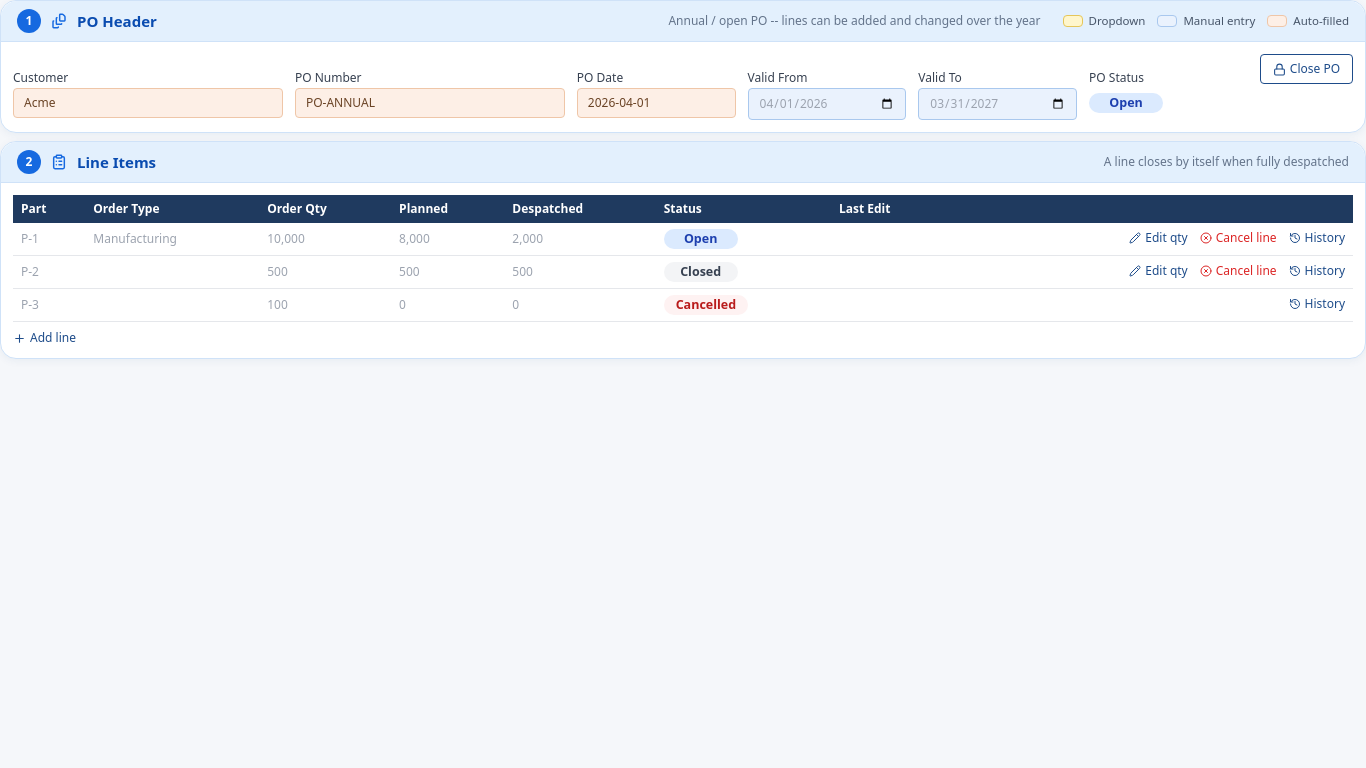
PO view › cancel line: reason required, then refused while PRDs are unstarted
Click the button "Cancel line" in the row of "P-1" at [1238, 238], box [1200, 230, 1277, 246]
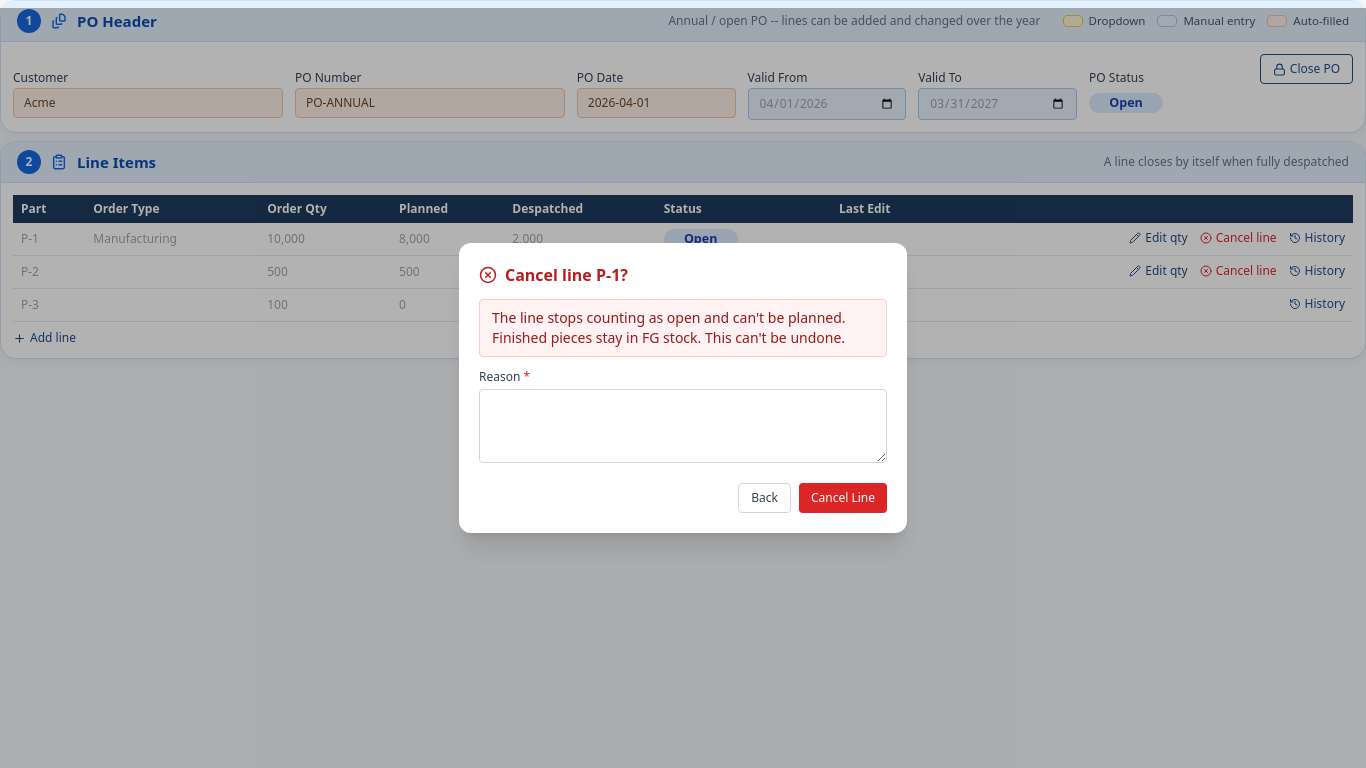
Click the button "Cancel Line" at [843, 498], box [799, 483, 887, 513]
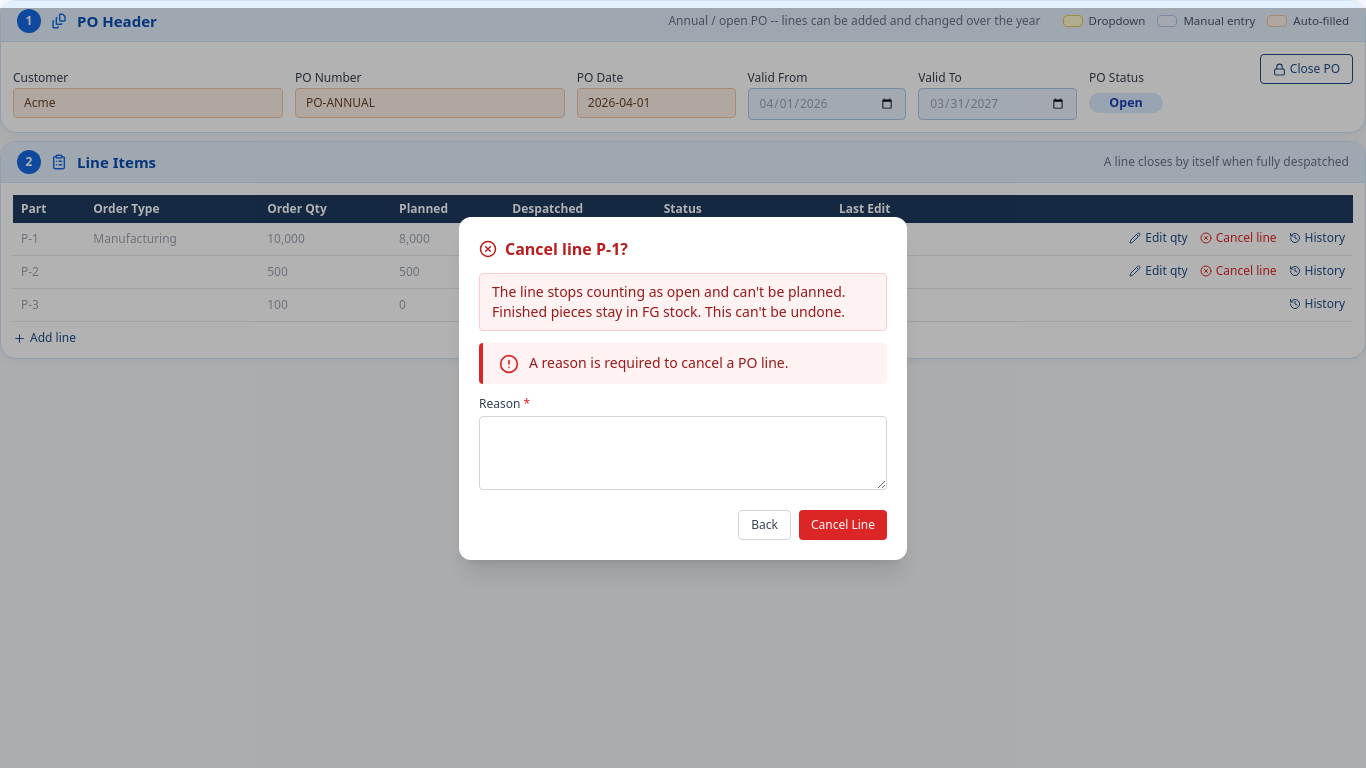
Check: the text "A reason is required to cancel a PO line." is shown, box [529, 352, 788, 372]
Type "Customer dropped it" into the text box at [683, 452], box [479, 416, 887, 490]
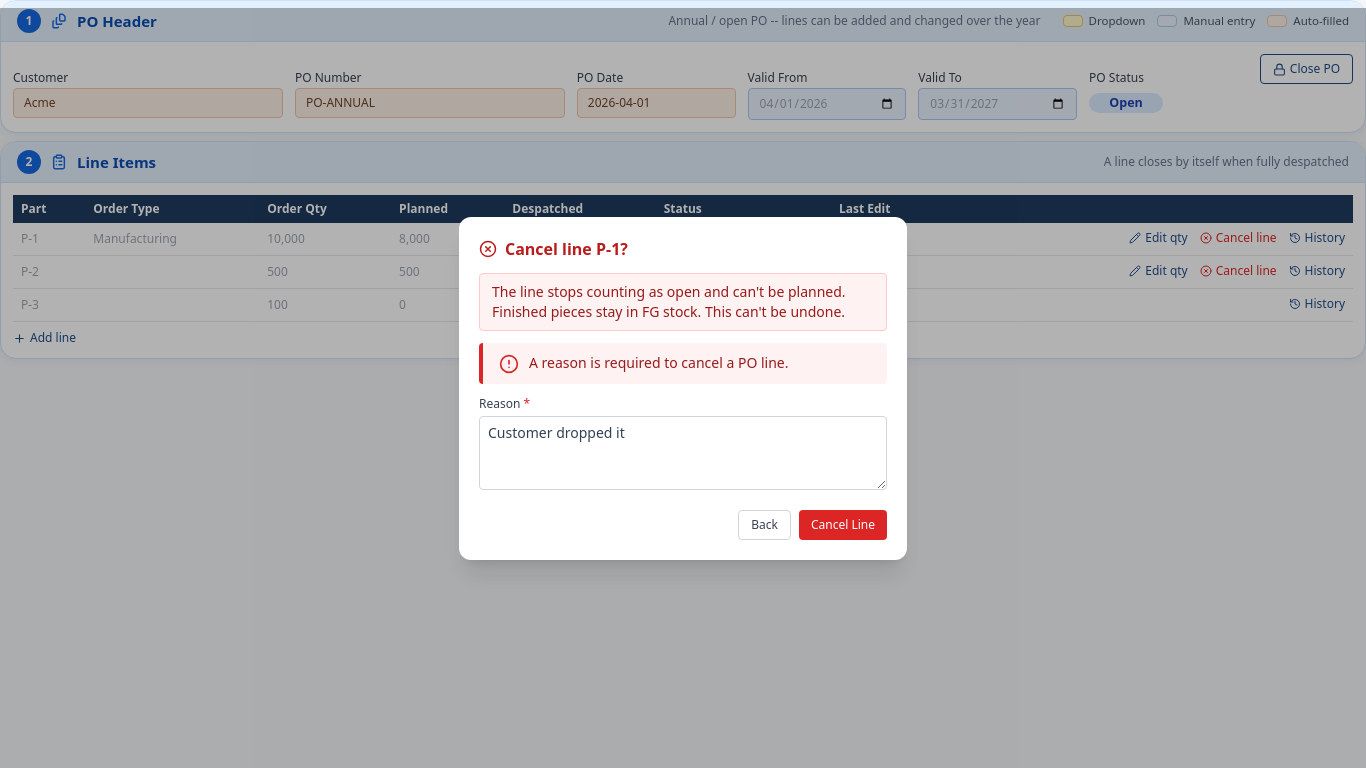
Click the button "Cancel Line" at [843, 524], box [799, 510, 887, 540]
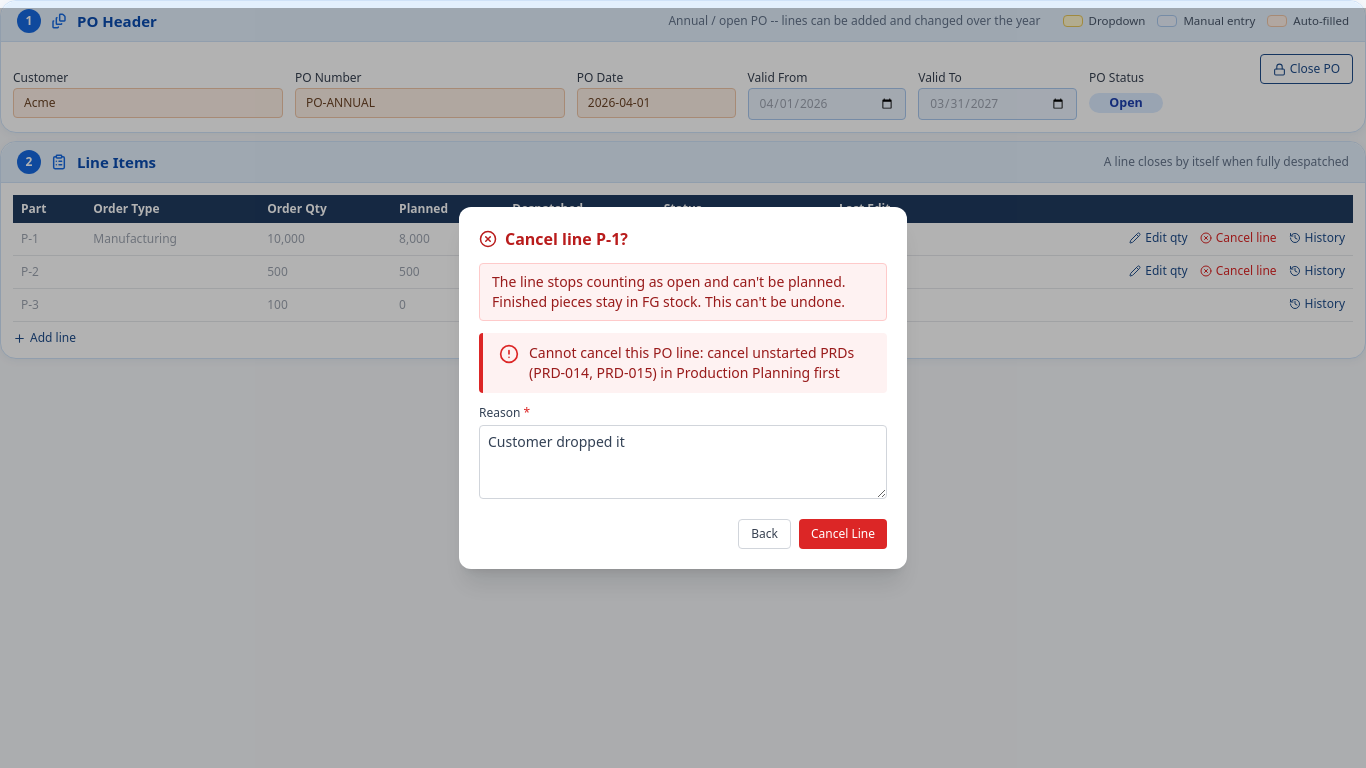
Check: the text "cancel unstarted PRDs (PRD-014, PRD-015) in Production Planning first" is shown, box [529, 343, 854, 382]
